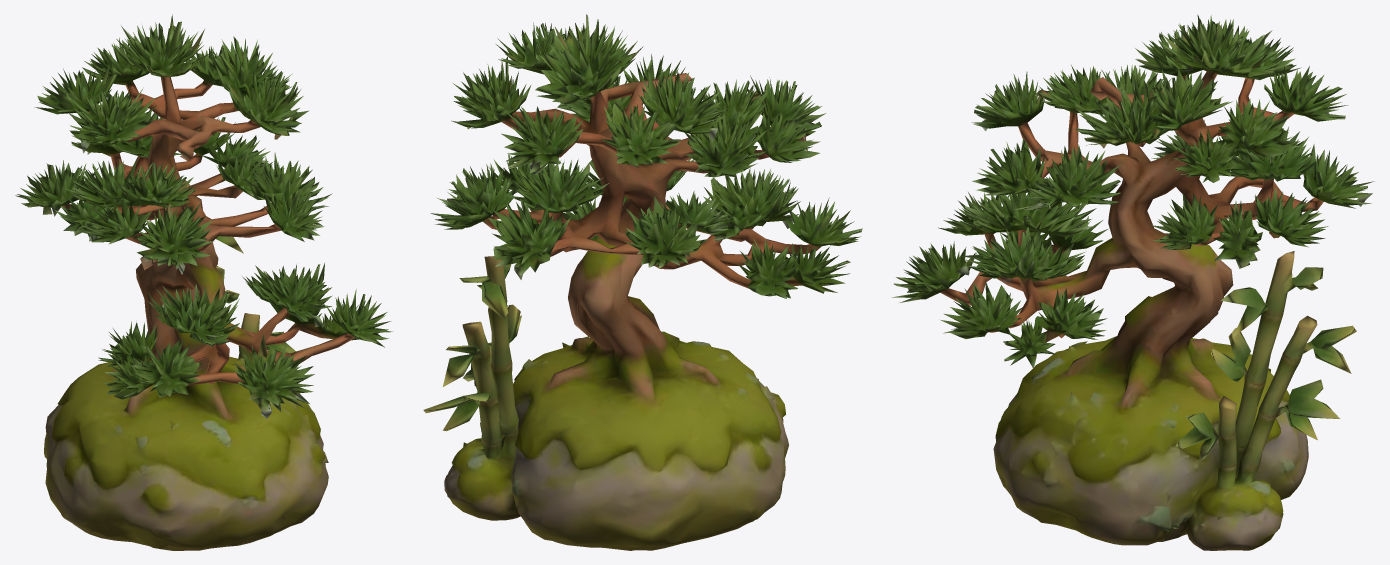
The model's file is x_pine.glb.
3 renders of one model, left to right at view 1: azimuth 30°, elevation 25°; view 2: azimuth 150°, elevation 25°; view 3: azimuth 270°, elevation 25°, orthographic. The views are drawn at different scales.
Visible parts, largest first — view 1: tripo_node_ea60f0ea-3fc8-43be-88c3-8be92793d740; view 2: tripo_node_ea60f0ea-3fc8-43be-88c3-8be92793d740; view 3: tripo_node_ea60f0ea-3fc8-43be-88c3-8be92793d740.
Boxes of the visible parts, box(x1,y1,x2,y2) form: tripo_node_ea60f0ea-3fc8-43be-88c3-8be92793d740: box(15, 14, 393, 550); tripo_node_ea60f0ea-3fc8-43be-88c3-8be92793d740: box(423, 14, 862, 550); tripo_node_ea60f0ea-3fc8-43be-88c3-8be92793d740: box(891, 14, 1373, 550).
Size of the model in its own units: 0.6164 by 1 by 0.9097.
Materials: 1 (1 with a texture image).
